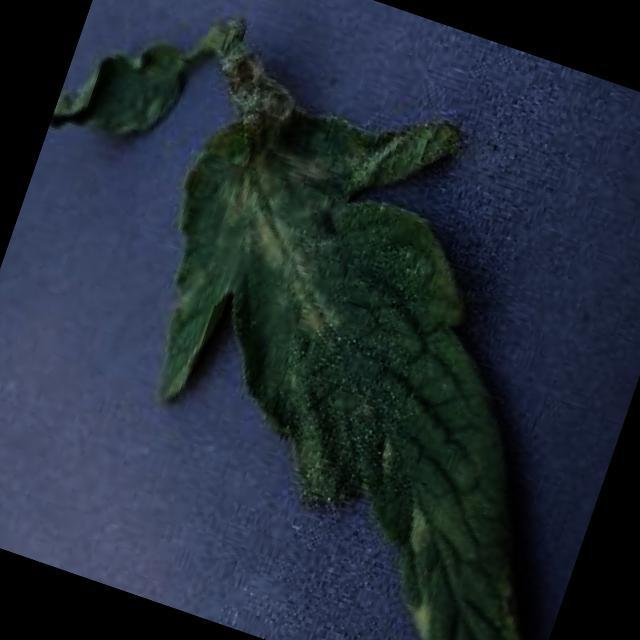Tomato mold leaf: (55, 52, 640, 640)
